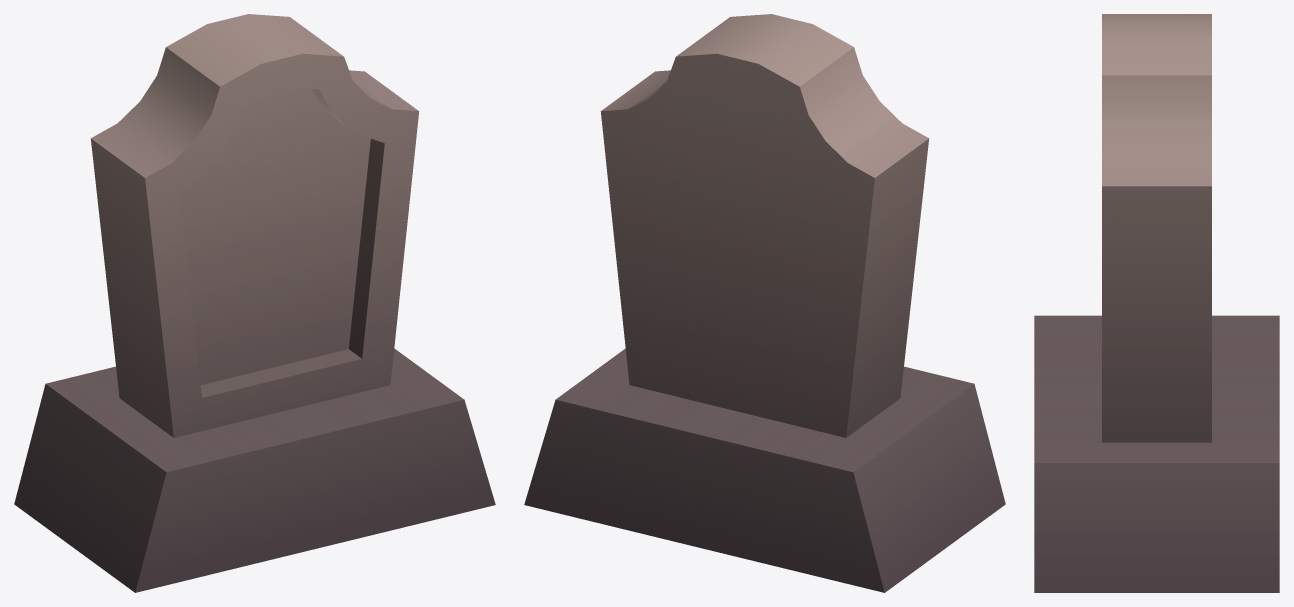
File: tombstone3.glb
3 views of the same model, side by side, from view 1: azimuth 30°, elevation 25°; view 2: azimuth 150°, elevation 25°; view 3: azimuth 270°, elevation 25° (orthographic).
Parts seen in each view (by area): view 1: tombstone3; view 2: tombstone3; view 3: tombstone3.
Boxes of the visible parts, x1=… form: tombstone3: x1=14, y1=14, x2=495, y2=592; tombstone3: x1=524, y1=14, x2=1005, y2=592; tombstone3: x1=1034, y1=14, x2=1279, y2=592.
Size of the model in its own units: 0.6858 by 0.8464 by 0.3988.
Materials: 1 (1 with a texture image).
